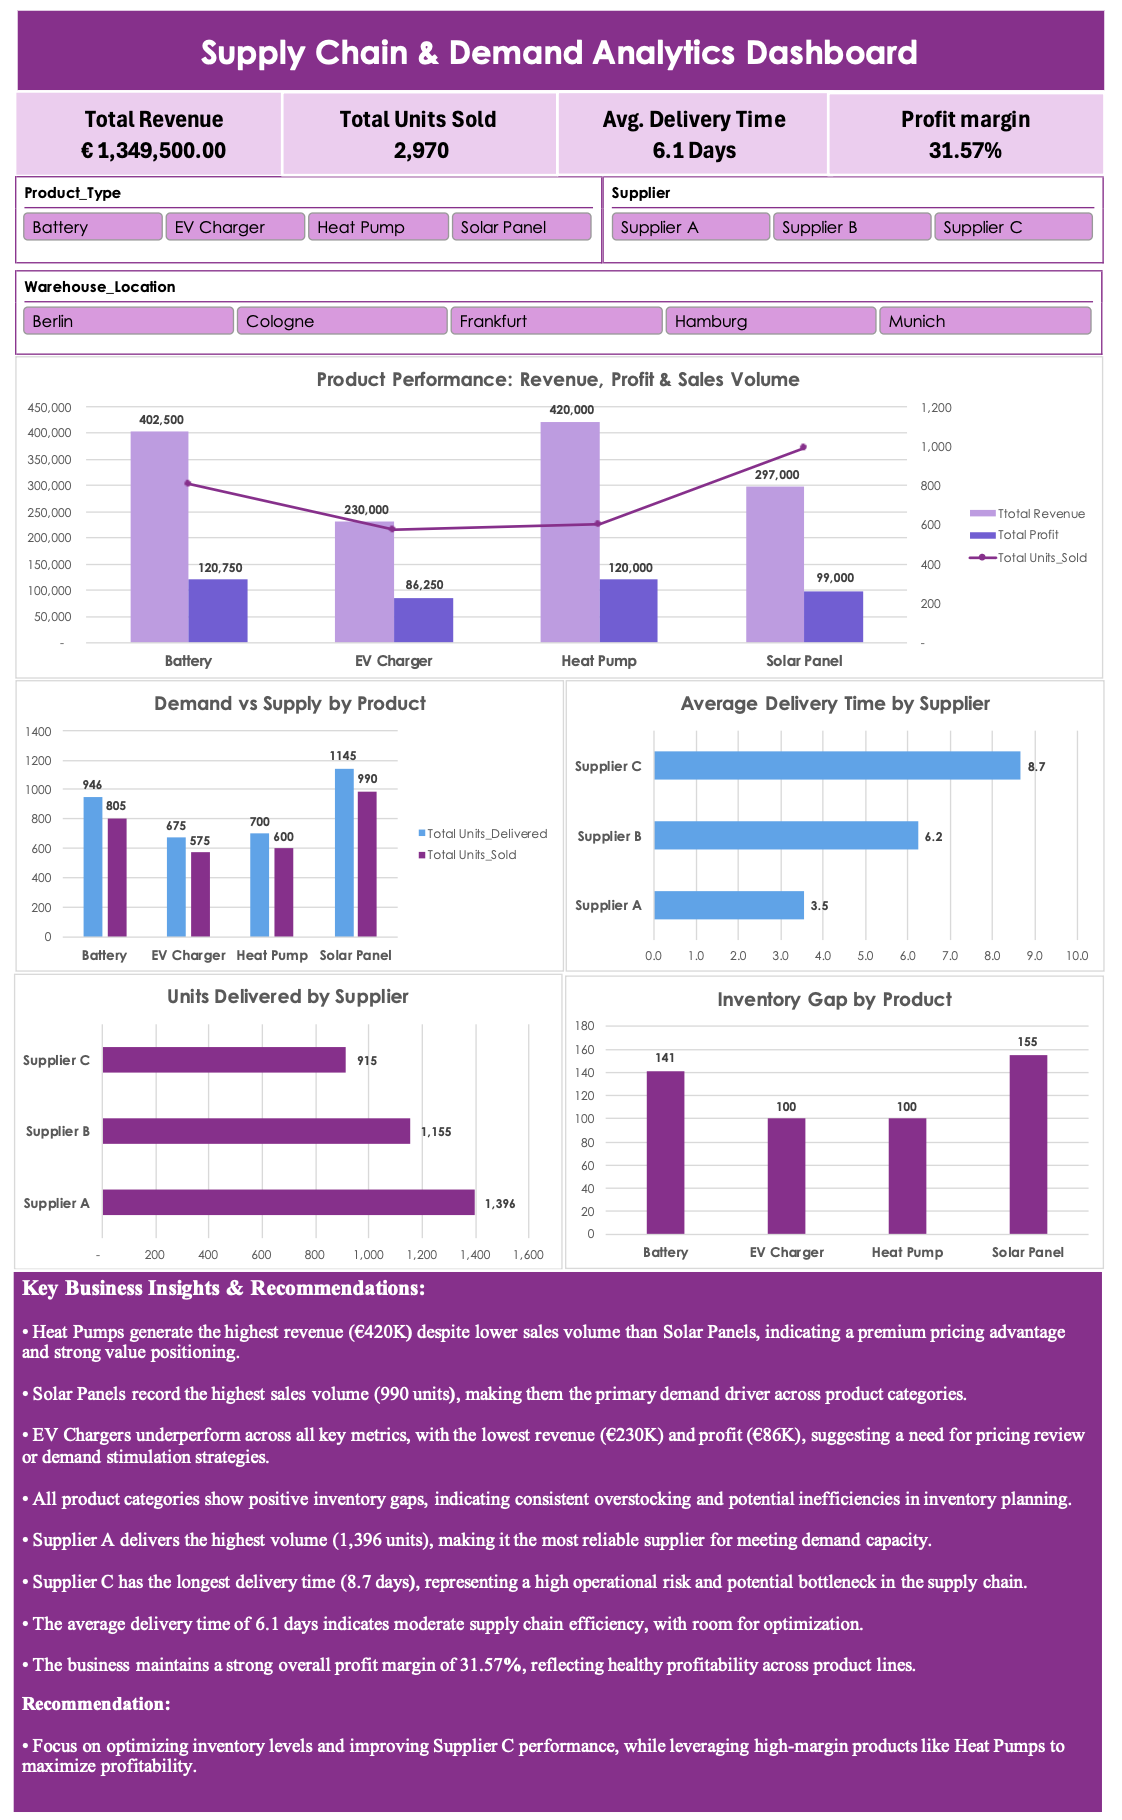

The dashboard page shown, as its layout file describes it:
{"tool":"powerbi","page":{"name":"Dashboard","canvas":[1280,720],"ordinal":0},"visuals":[{"type":"cardVisual","fields":{"Data":["Sum(Table1.Revenue)","Sum(Table1.Revenue)"]},"box":[8,74,185,100],"z":0},{"type":"cardVisual","fields":{"Data":["Sum(Table1.Units_Sold)"]},"box":[370,74,200,100],"z":1000},{"type":"cardVisual","fields":{"Data":["Avg(Table1.Delivery_Time)"]},"box":[570,74,193,100],"z":2000},{"type":"lineStackedColumnComboChart","title":"Product Performance","fields":{"Category":["Table1.Product_Type"],"Y":["Sum(Table1.Revenue)","Sum(Table1.Profit)"],"Y2":["Sum(Table1.Units_Sold)"]},"box":[8,178,908,175],"z":3000},{"type":"clusteredBarChart","title":"Demand vs Supply","fields":{"Category":["Table1.Product_Type"],"Y":["Sum(Table1.Units_Delivered)","Sum(Table1.Units_Sold)"]},"box":[923,76,350,277],"z":4000},{"type":"clusteredColumnChart","title":"Inventory Gap","fields":{"Category":["Table1.Product_Type"],"Y":["Sum(Table1.Inventory gap)"]},"box":[8,360,414,165],"z":5000},{"type":"clusteredBarChart","title":"Units Delivered by Supplier","fields":{"Category":["Table1.Supplier"],"Y":["Sum(Table1.Units_Delivered)"]},"box":[850,360,423,165],"z":6000},{"type":"clusteredBarChart","title":"Average Delivery Time by Supplier","fields":{"Category":["Table1.Supplier"],"Y":["Avg(Table1.Delivery_Time)"]},"box":[432,360,411,165],"z":7000},{"type":"slicer","fields":{"Values":["Table1.Product_Type"]},"box":[683,0,192,66],"z":8000},{"type":"slicer","fields":{"Values":["Table1.Warehouse_Location"]},"box":[1081,0,192,66],"z":9000},{"type":"slicer","fields":{"Values":["Table1.Supplier"]},"box":[883,0,193,66],"z":10000},{"type":"clusteredColumnChart","title":"Revenue vs Cost","fields":{"Category":["Table1.Product_Type"],"Y":["Sum(Table1.Revenue)","Sum(Table1.Total_Cost)"]},"box":[432,531,411,189],"z":11000},{"type":"lineChart","title":"Inventory Level Trend","fields":{"Category":["Table1.Date.Variation.Date Hierarchy.Year","Table1.Date.Variation.Date Hierarchy.Quarter","Table1.Date.Variation.Date Hierarchy.Month","Table1.Date.Variation.Date Hierarchy.Day"],"Y":["Sum(Table1.Inventory_Level)"]},"box":[850,531,423,189],"z":12000},{"type":"shape","box":[101,0,574,66],"z":13000},{"type":"cardVisual","fields":{"Data":["Table1.Profit Margin %"]},"box":[193,74,177,100],"z":14000},{"type":"cardVisual","fields":{"Data":["Table1.Fill Rate"]},"box":[763,74,153,100],"z":15000},{"type":"esriVisual","title":"Profit vs Warehouse Location","fields":{"Location":["Table1.Warehouse_Location"],"Size":["Sum(Table1.Profit)"]},"box":[8,531,414,189],"z":16000},{"type":"image","box":[8,0,93,66],"z":17000}]}

Visuals, with their boxes on the page's 1280x720 design canvas (x1, y1, x2, y2). These are canvas units, not pixel positions in the 1122x1820 screenshot, which may show the page scaled, cropped or inside an application window:
cardVisual - Sum(Table1.Revenue) x Sum(Table1.Revenue): BBox(8, 74, 193, 174)
cardVisual - Sum(Table1.Units_Sold): BBox(370, 74, 570, 174)
cardVisual - Avg(Table1.Delivery_Time): BBox(570, 74, 763, 174)
"Product Performance" lineStackedColumnComboChart: BBox(8, 178, 916, 353)
"Demand vs Supply" clusteredBarChart: BBox(923, 76, 1273, 353)
"Inventory Gap" clusteredColumnChart: BBox(8, 360, 422, 525)
"Units Delivered by Supplier" clusteredBarChart: BBox(850, 360, 1273, 525)
"Average Delivery Time by Supplier" clusteredBarChart: BBox(432, 360, 843, 525)
slicer - Table1.Product_Type: BBox(683, 0, 875, 66)
slicer - Table1.Warehouse_Location: BBox(1081, 0, 1273, 66)
slicer - Table1.Supplier: BBox(883, 0, 1076, 66)
"Revenue vs Cost" clusteredColumnChart: BBox(432, 531, 843, 720)
"Inventory Level Trend" lineChart: BBox(850, 531, 1273, 720)
shape: BBox(101, 0, 675, 66)
cardVisual - Table1.Profit Margin %: BBox(193, 74, 370, 174)
cardVisual - Table1.Fill Rate: BBox(763, 74, 916, 174)
"Profit vs Warehouse Location" esriVisual: BBox(8, 531, 422, 720)
image: BBox(8, 0, 101, 66)
